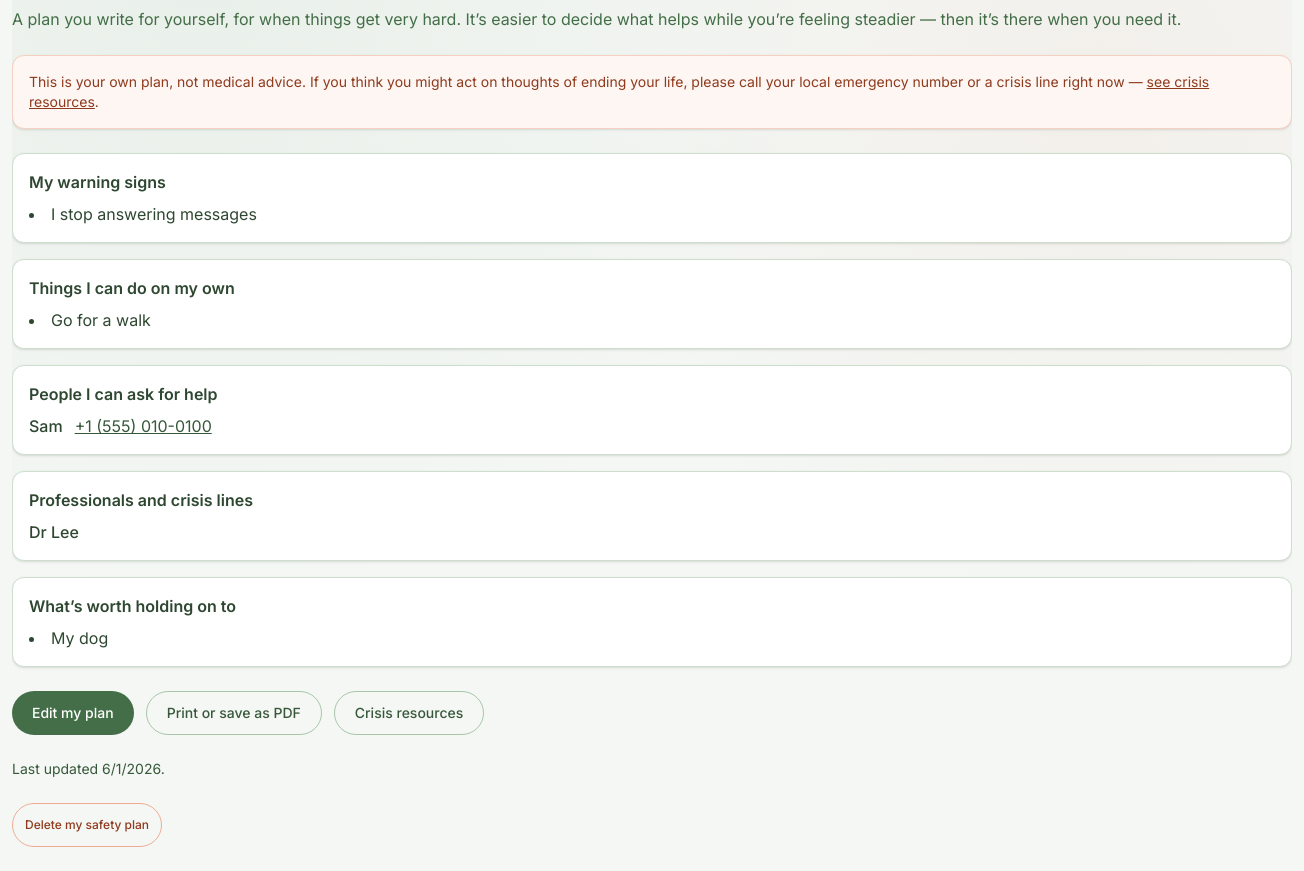
Test case: SafetyPlan page (with a plan) › deletes only after a second deliberate click
This screenshot has width=1304, height=871.
Click the button "Delete my safety plan" at x=87, y=825, box [12,803,162,847]
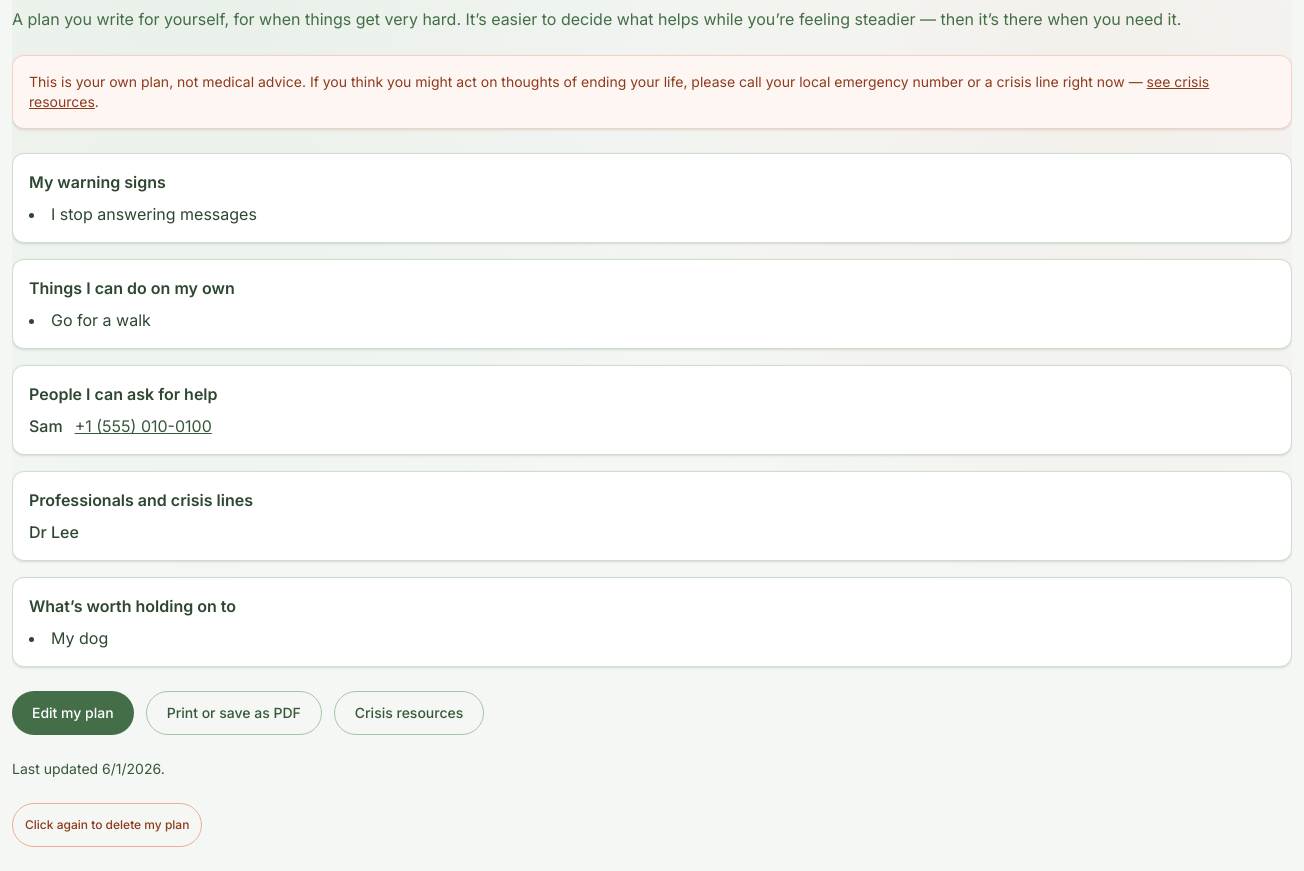
Click the button "Click again to delete my plan" at x=107, y=825, box [12,803,202,847]
(page scrolled)
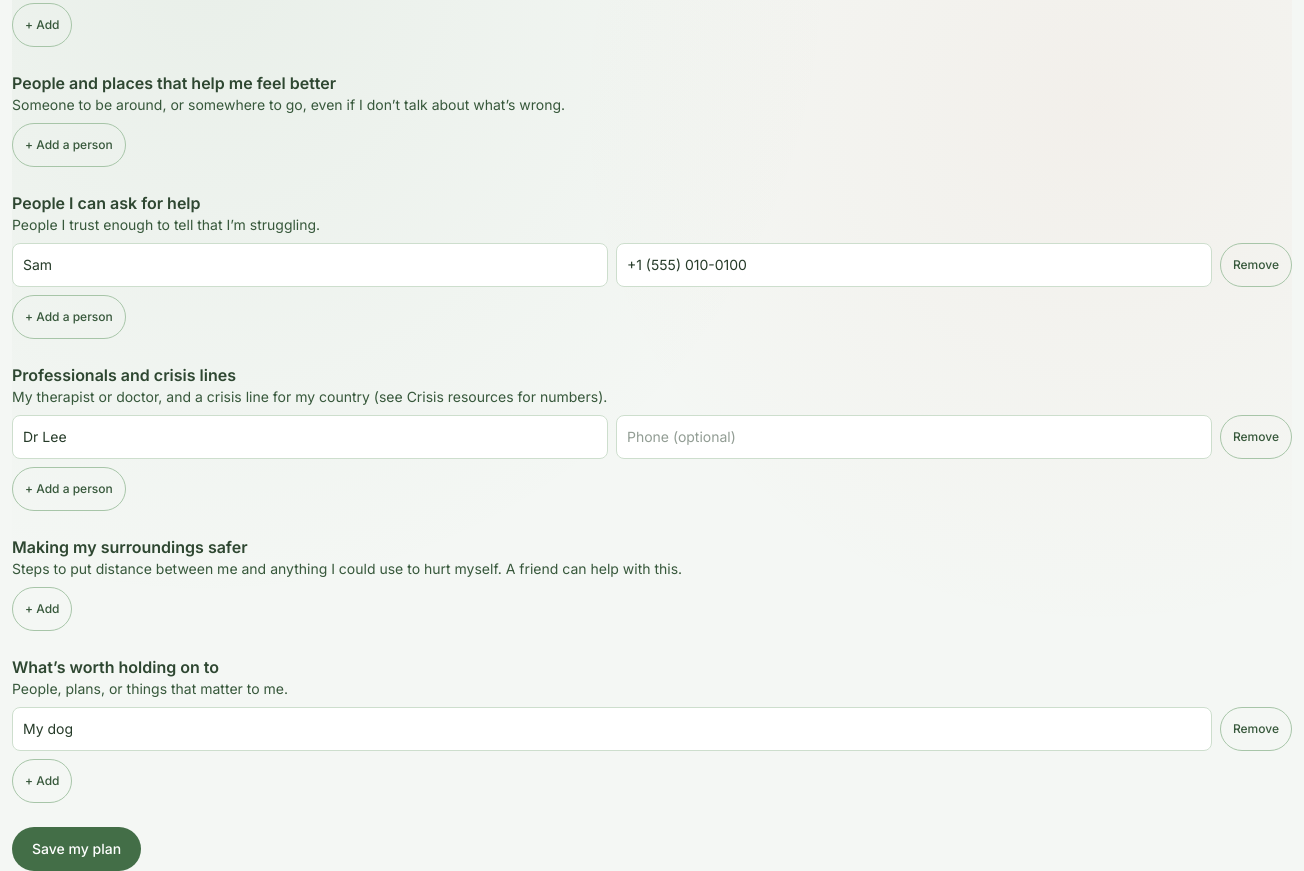
Expected: the button "Save my plan" is shown, [12,827,141,870]
